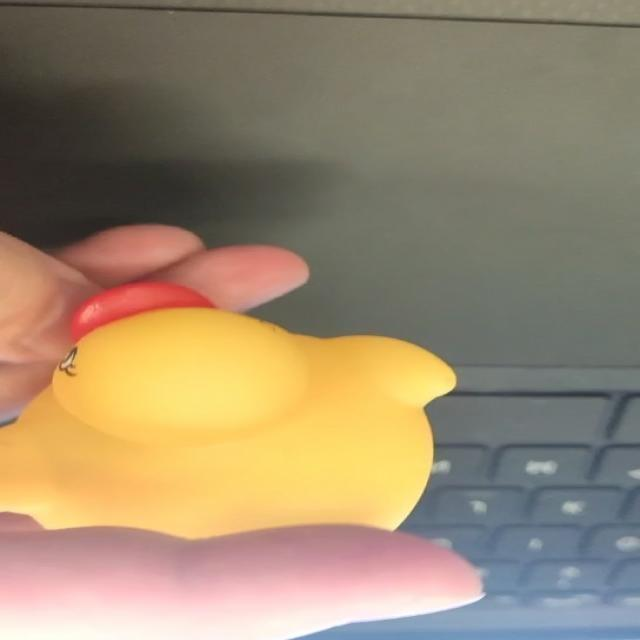rubber-duck: (0, 306, 454, 536)
